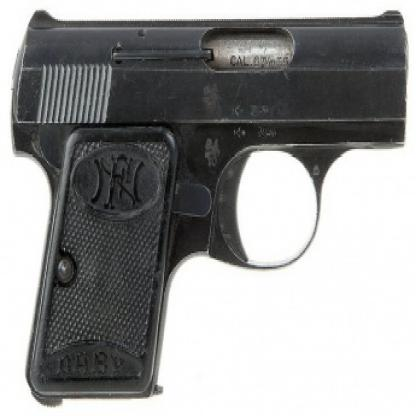Guns: (6, 3, 415, 414)
